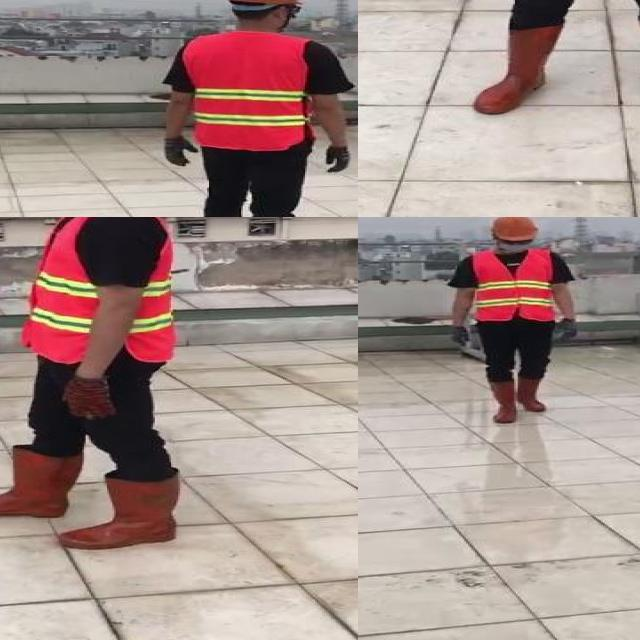boots: (64, 479, 180, 551), (470, 25, 560, 114), (0, 445, 80, 518), (488, 379, 518, 423), (514, 376, 546, 412)
glasses: (496, 236, 536, 246)
hand_glove: (61, 376, 118, 419), (166, 136, 195, 167), (325, 144, 351, 176), (552, 319, 582, 341), (452, 324, 470, 347)
head_helmet: (488, 217, 538, 236), (221, 0, 303, 8)
person: (0, 217, 190, 555), (161, 0, 358, 217), (439, 217, 583, 425), (453, 0, 640, 118)
vest: (25, 217, 176, 363), (182, 32, 318, 149), (471, 248, 557, 323)
